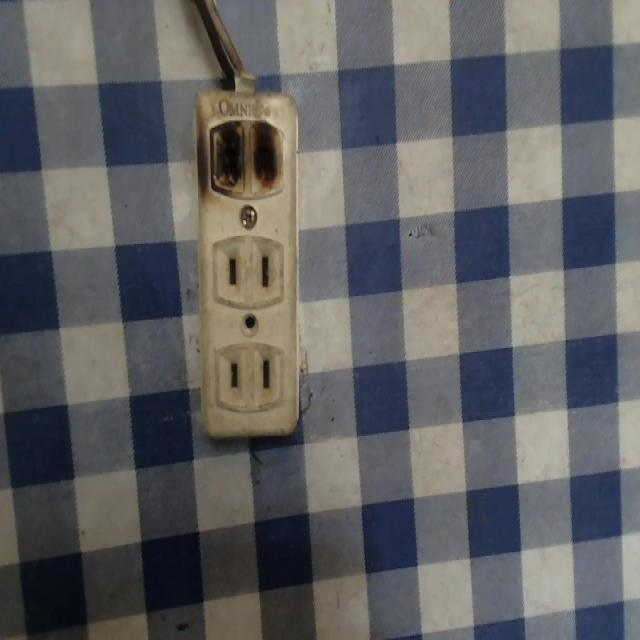-: (192, 106, 293, 206)
